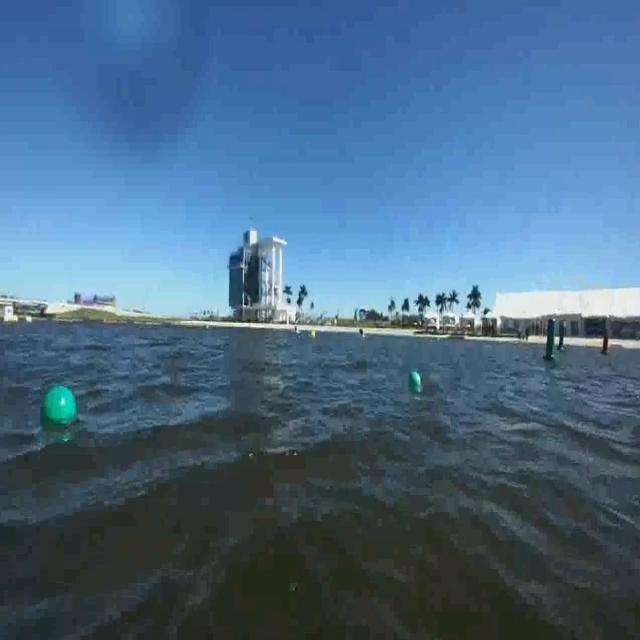green-buoy: (39, 385, 77, 433), (410, 372, 420, 390)
green-column-buoy: (542, 317, 558, 363), (557, 322, 568, 354)
red-column-buoy: (600, 329, 611, 357)
yellow-buoy: (311, 328, 318, 340)
